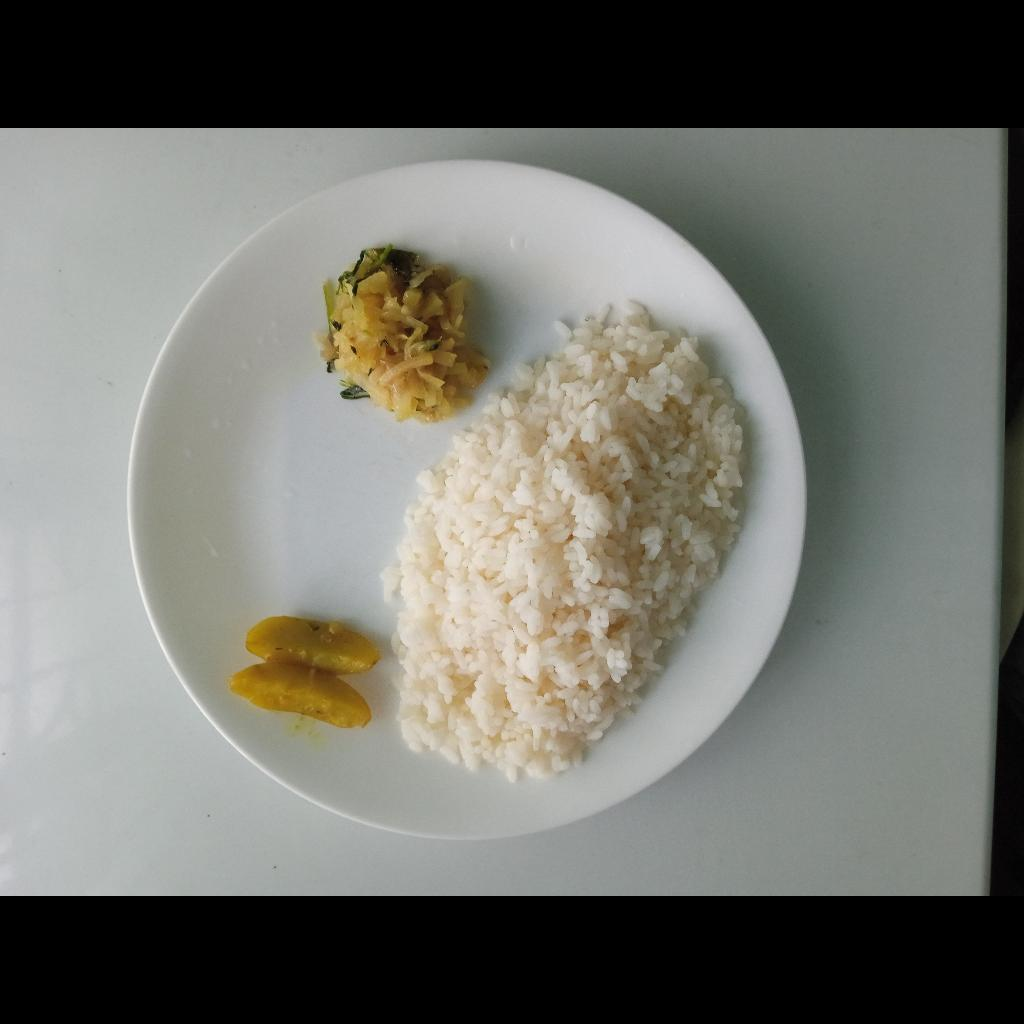cabbage: (325, 242, 476, 422)
potato: (227, 614, 381, 729)
rice: (381, 300, 746, 775)
